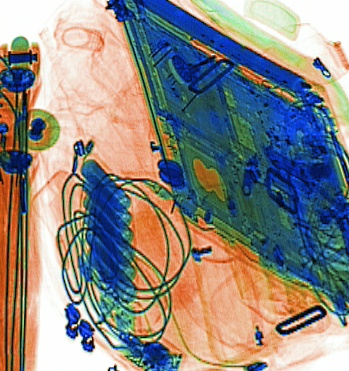powerbank: (80, 150, 144, 339)
